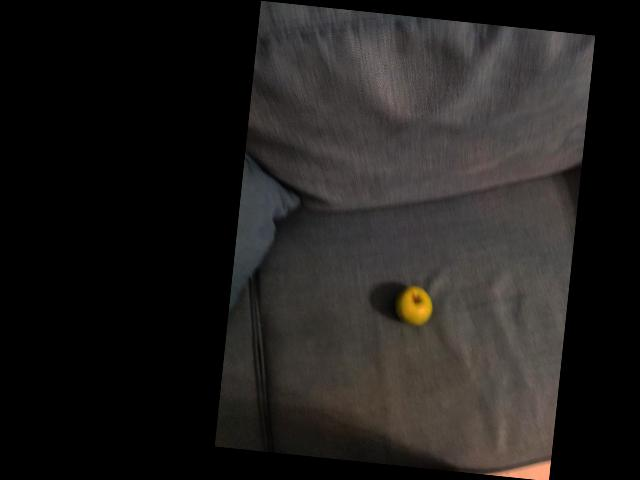apple: (391, 281, 444, 334)
